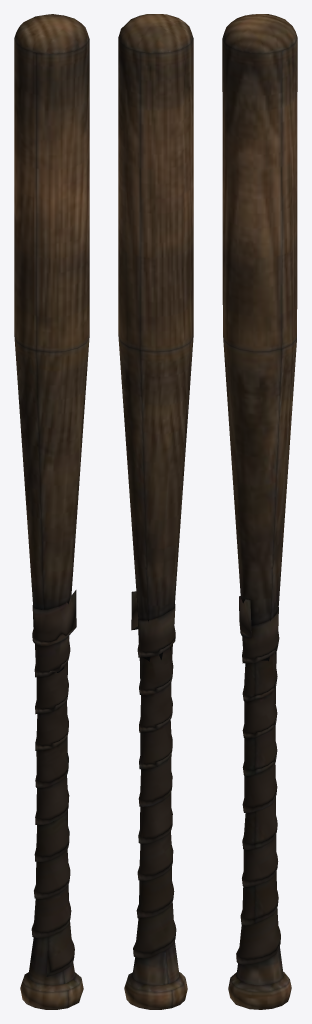
File: baseball_bat.glb
The picture shows the model from 3 angles, left to right: view 1: azimuth 30°, elevation 25°; view 2: azimuth 210°, elevation 25°; view 3: azimuth 270°, elevation 25°; orthographic projection.
Visible parts, largest first — view 1: baseball_bat; view 2: baseball_bat; view 3: baseball_bat.
Part boxes in pixels (x1,y1,x2,y2): baseball_bat: (14,14,89,1009); baseball_bat: (118,14,193,1009); baseball_bat: (222,14,297,1009).
Size of the model in its own units: 0.0628 by 0.9132 by 0.0635.
Materials: 1 (1 with a texture image).
